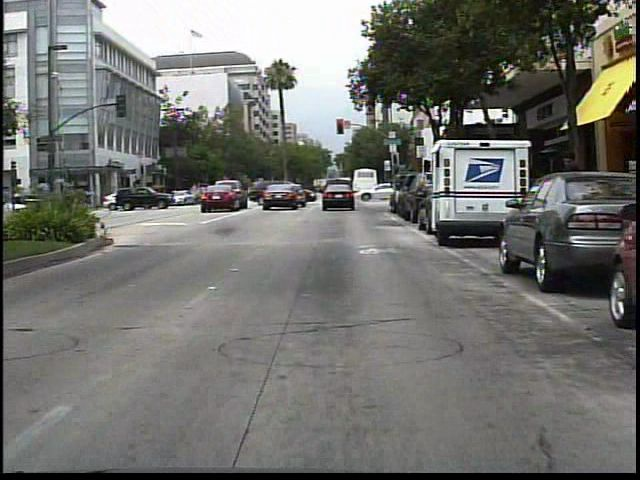person: (553, 147, 587, 249), (249, 181, 264, 207)
